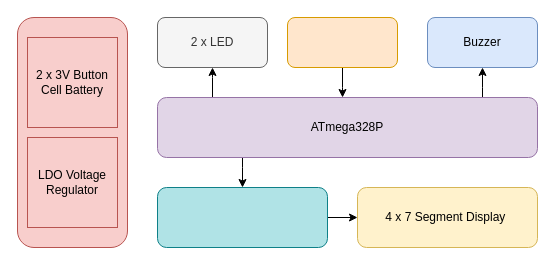
This 555x265 diagram has some shape labels left out. Here are the shapes that lost their labels. From the top down, the centre of each, then its label:
At point 342,42: "2 x Push Buttons".
At point 242,217: "4 x 8 Bit Shift Register".
